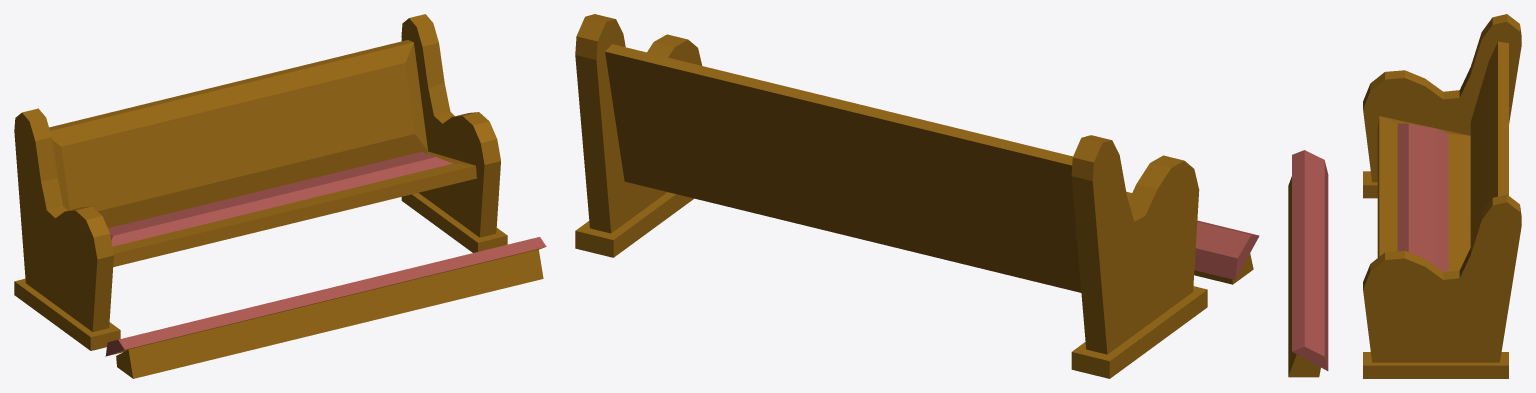
3 renders of one model, left to right at view 1: azimuth 30°, elevation 25°; view 2: azimuth 150°, elevation 25°; view 3: azimuth 270°, elevation 25°, orthographic. The views are drawn at different scales.
Bounding box in the file's own units: 255 × 105 × 128.
Materials: 1 (1 with a texture image).
